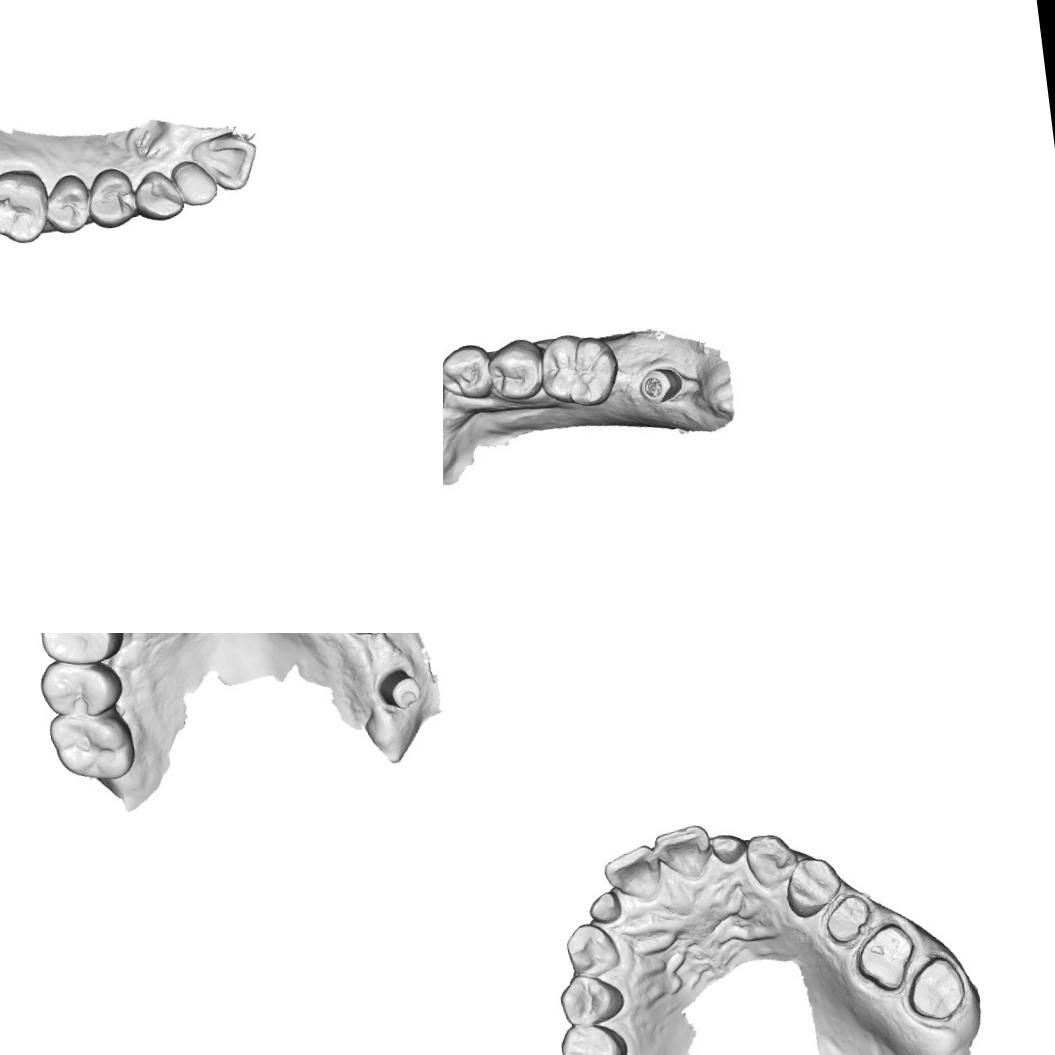abutment: (378, 666, 426, 713)
canine: (563, 917, 624, 982), (742, 829, 802, 891), (132, 165, 187, 224)
crown: (850, 919, 920, 998), (902, 947, 968, 1025), (821, 890, 876, 950)
implant: (634, 358, 686, 409)
incisor: (188, 128, 262, 196), (600, 843, 666, 906), (651, 819, 711, 880), (170, 156, 222, 210), (704, 830, 748, 870), (586, 890, 622, 926)
molar: (532, 325, 624, 414), (45, 704, 136, 788), (0, 164, 51, 249)
premolar: (38, 654, 124, 720), (483, 335, 548, 406), (555, 968, 628, 1028), (782, 851, 844, 918), (83, 164, 140, 232), (40, 170, 94, 238), (443, 341, 494, 402), (556, 1017, 630, 1055), (38, 633, 114, 669)
